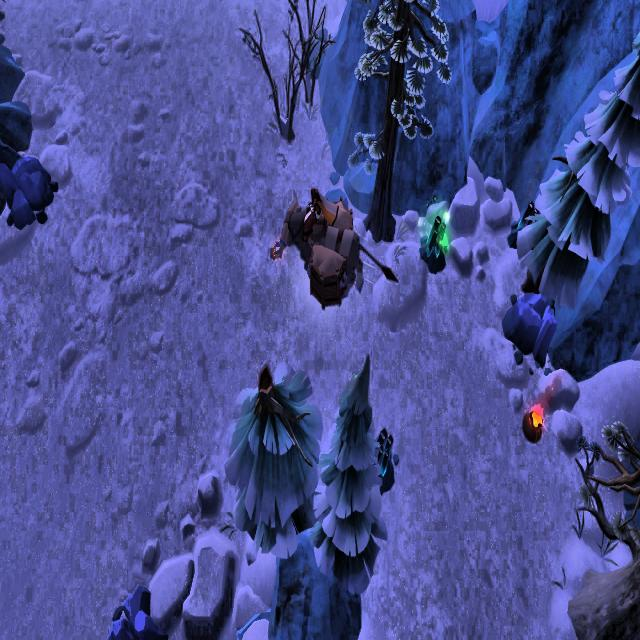ore_t4: (510, 203, 542, 245), (423, 216, 448, 262), (373, 428, 393, 477)
rock_t4: (0, 146, 58, 225), (500, 290, 558, 368), (110, 586, 167, 640)
